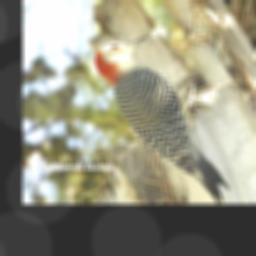Woodpecker: (90, 34, 231, 203)
